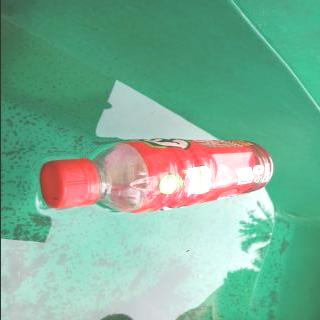bottle: (38, 136, 274, 214)
